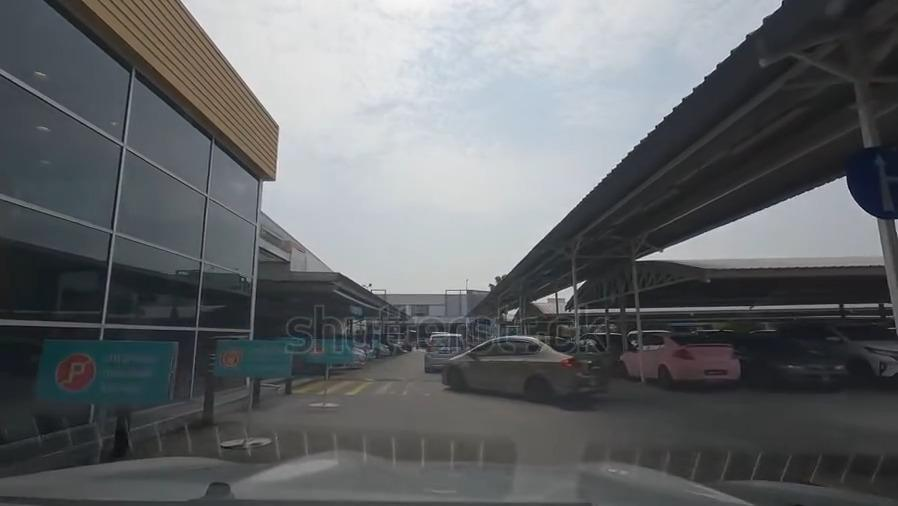car: (441, 339, 606, 398), (797, 318, 898, 380), (616, 339, 739, 389), (744, 337, 843, 387), (427, 333, 464, 369)
pedestrian: (284, 384, 516, 399)
speedbump: (337, 374, 443, 383)
wheel: (525, 377, 549, 401), (444, 367, 461, 389)
